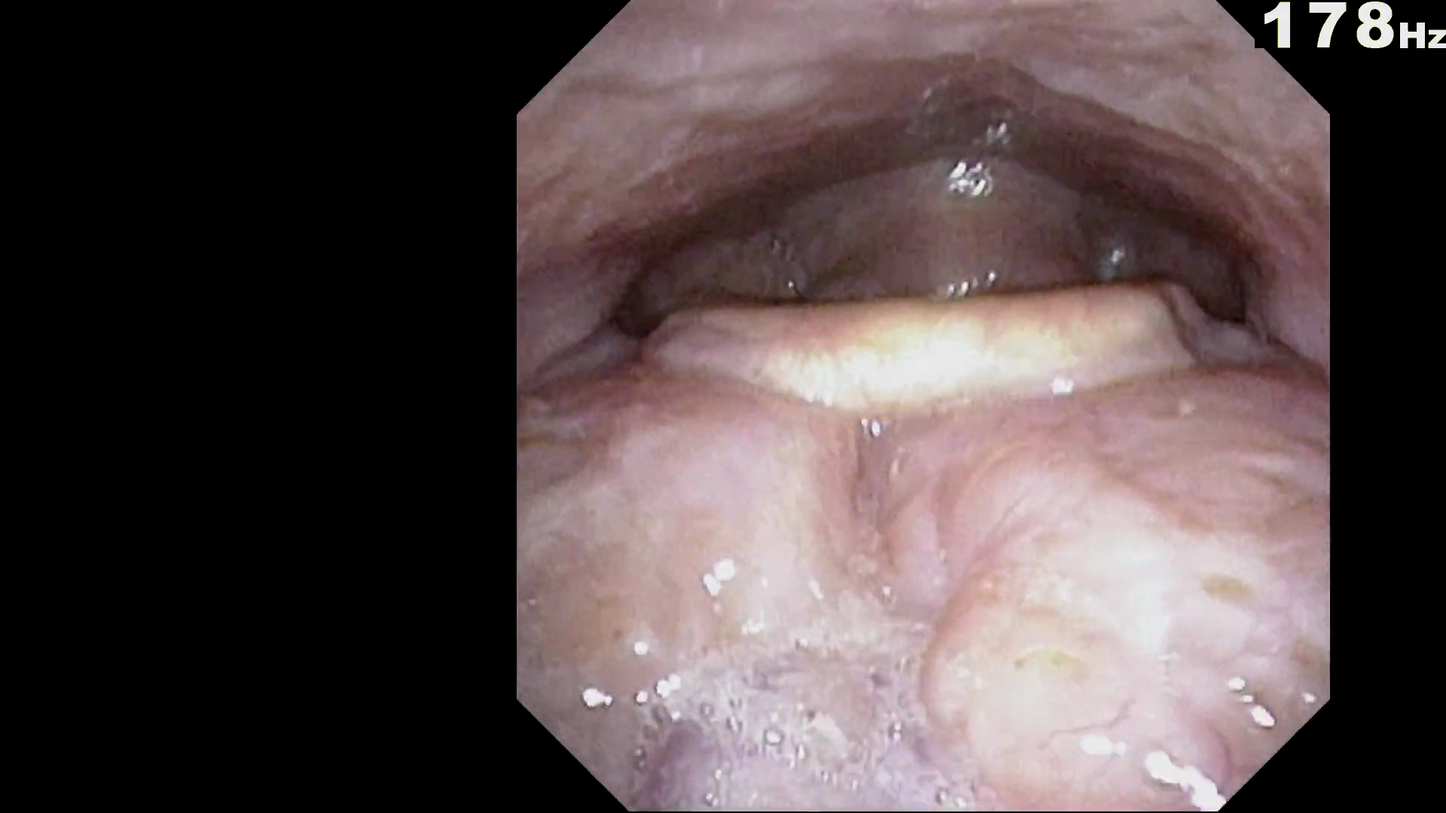epiglottis: (645, 239, 1243, 486)
